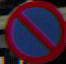No waiting: (4, 3, 63, 58)
